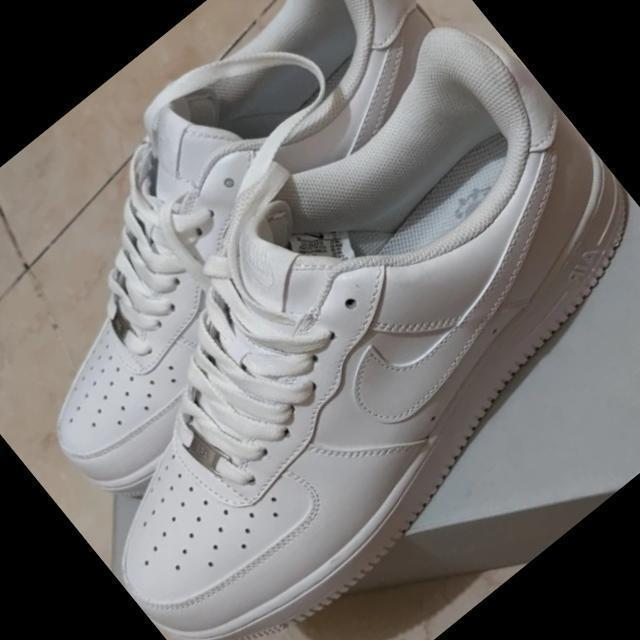nike original air force: (0, 0, 640, 640), (0, 0, 554, 520)
